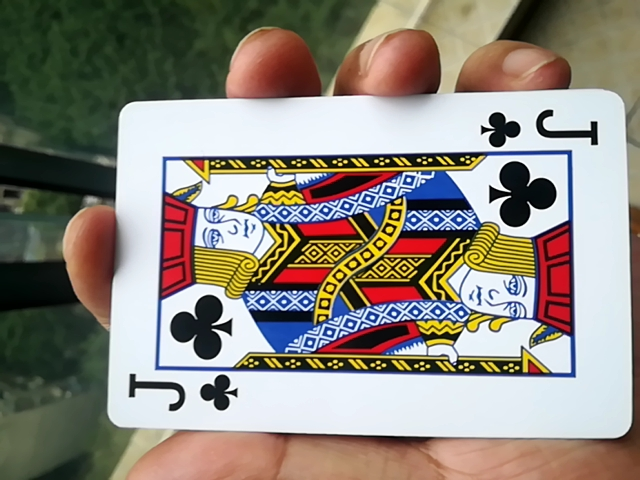mh j: (79, 110, 625, 448)
